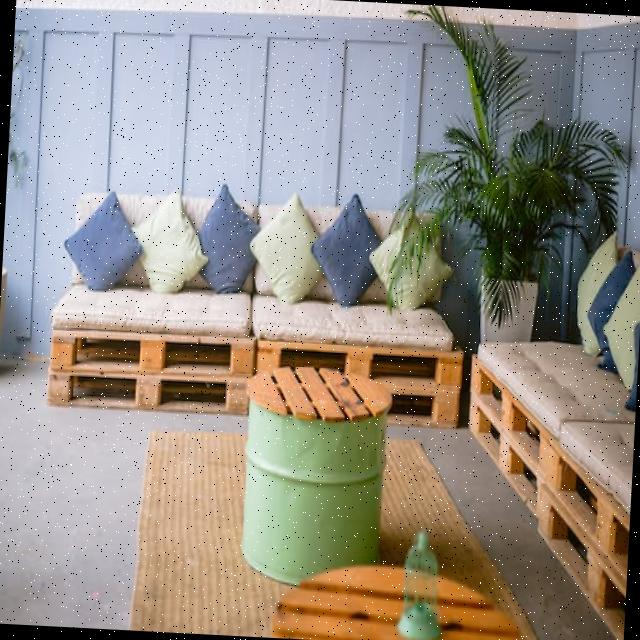Wooden-Pallets: (463, 385, 542, 544), (50, 364, 250, 419), (54, 326, 254, 380), (468, 353, 550, 480)
